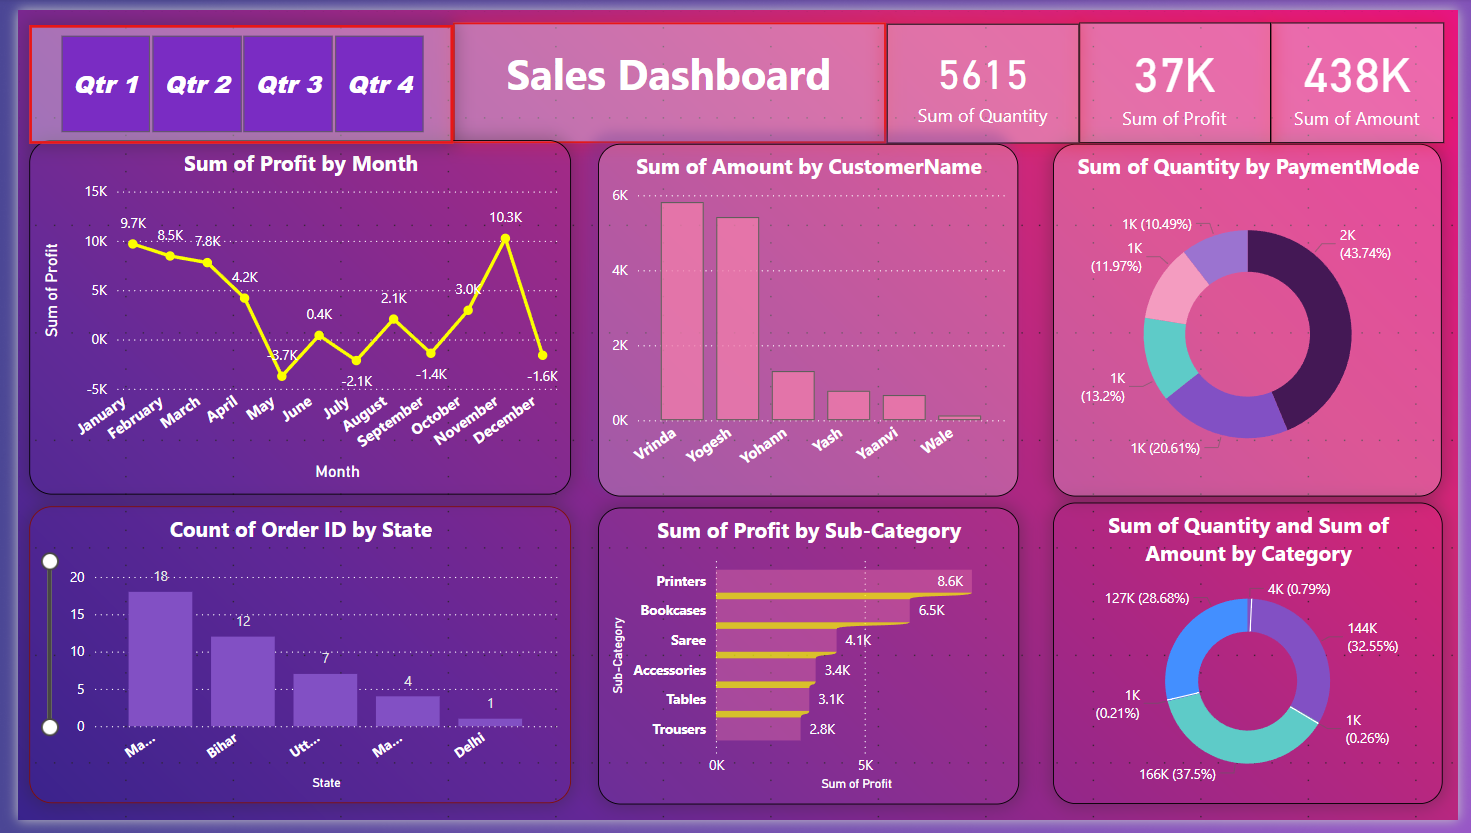

Layout of this report page (visuals, bound fields, positions):
{"tool":"powerbi","page":{"name":"Page 1","canvas":[1280,720],"ordinal":0},"visuals":[{"type":"textbox","box":[422,13,337,88],"z":0},{"type":"lineChart","fields":{"Category":["Orders.Order Date.Variation.Date Hierarchy.Month"],"Y":["Details.Profit"]},"box":[10,115.7,482.9,315.7],"z":1000},{"type":"barChart","fields":{"Y":["Details.Profit"],"Category":["Details.Sub-Category"]},"box":[516,442,374,264],"z":2000},{"type":"donutChart","fields":{"Y":["Details.Quantity","Details.Amount"],"Category":["Details.Category"]},"box":[920,438,346,268],"z":3000},{"type":"donutChart","fields":{"Y":["Details.Quantity"],"Category":["Details.PaymentMode"]},"box":[924,118,342,314],"z":4000},{"type":"card","fields":{"Values":["Details.Amount"]},"box":[1112.4,8.1,154.7,95.5],"z":5000},{"type":"card","fields":{"Values":["Details.Profit"]},"box":[943,9,153,95],"z":6000},{"type":"card","fields":{"Values":["Details.Quantity"]},"box":[771,12,153,92],"z":7000},{"type":"lineStackedColumnComboChart","fields":{"Category":["Orders.CustomerName"],"Y":["Details.Amount"]},"box":[528.8,118.8,360,313.8],"z":8000},{"type":"slicer","fields":{"Values":["Orders.Order Date.Variation.Date Hierarchy.Quarter"]},"box":[10,12.2,370,88.9],"z":9000},{"type":"lineStackedColumnComboChart","fields":{"Category":["Orders.State"],"Y":["Details.Order ID"]},"box":[10,441.4,481.4,264.3],"z":10000}]}

Visuals, with their boxes in screenshot pixels (x1, y1, x2, y2), scaled from the page's 1280x720 canvas onto the 1471x833 screenshot:
textbox: bbox=[485, 15, 872, 117]
lineChart - Orders.Order Date.Variation.Date Hierarchy.Month x Details.Profit: bbox=[11, 134, 566, 499]
barChart - Details.Profit x Details.Sub-Category: bbox=[593, 511, 1023, 817]
donutChart - Details.Quantity x Details.Amount: bbox=[1057, 507, 1455, 817]
donutChart - Details.Quantity x Details.PaymentMode: bbox=[1062, 137, 1455, 500]
card - Details.Amount: bbox=[1278, 9, 1456, 120]
card - Details.Profit: bbox=[1084, 10, 1260, 120]
card - Details.Quantity: bbox=[886, 14, 1062, 120]
lineStackedColumnComboChart - Orders.CustomerName x Details.Amount: bbox=[608, 137, 1021, 500]
slicer - Orders.Order Date.Variation.Date Hierarchy.Quarter: bbox=[11, 14, 437, 117]
lineStackedColumnComboChart - Orders.State x Details.Order ID: bbox=[11, 511, 565, 816]
